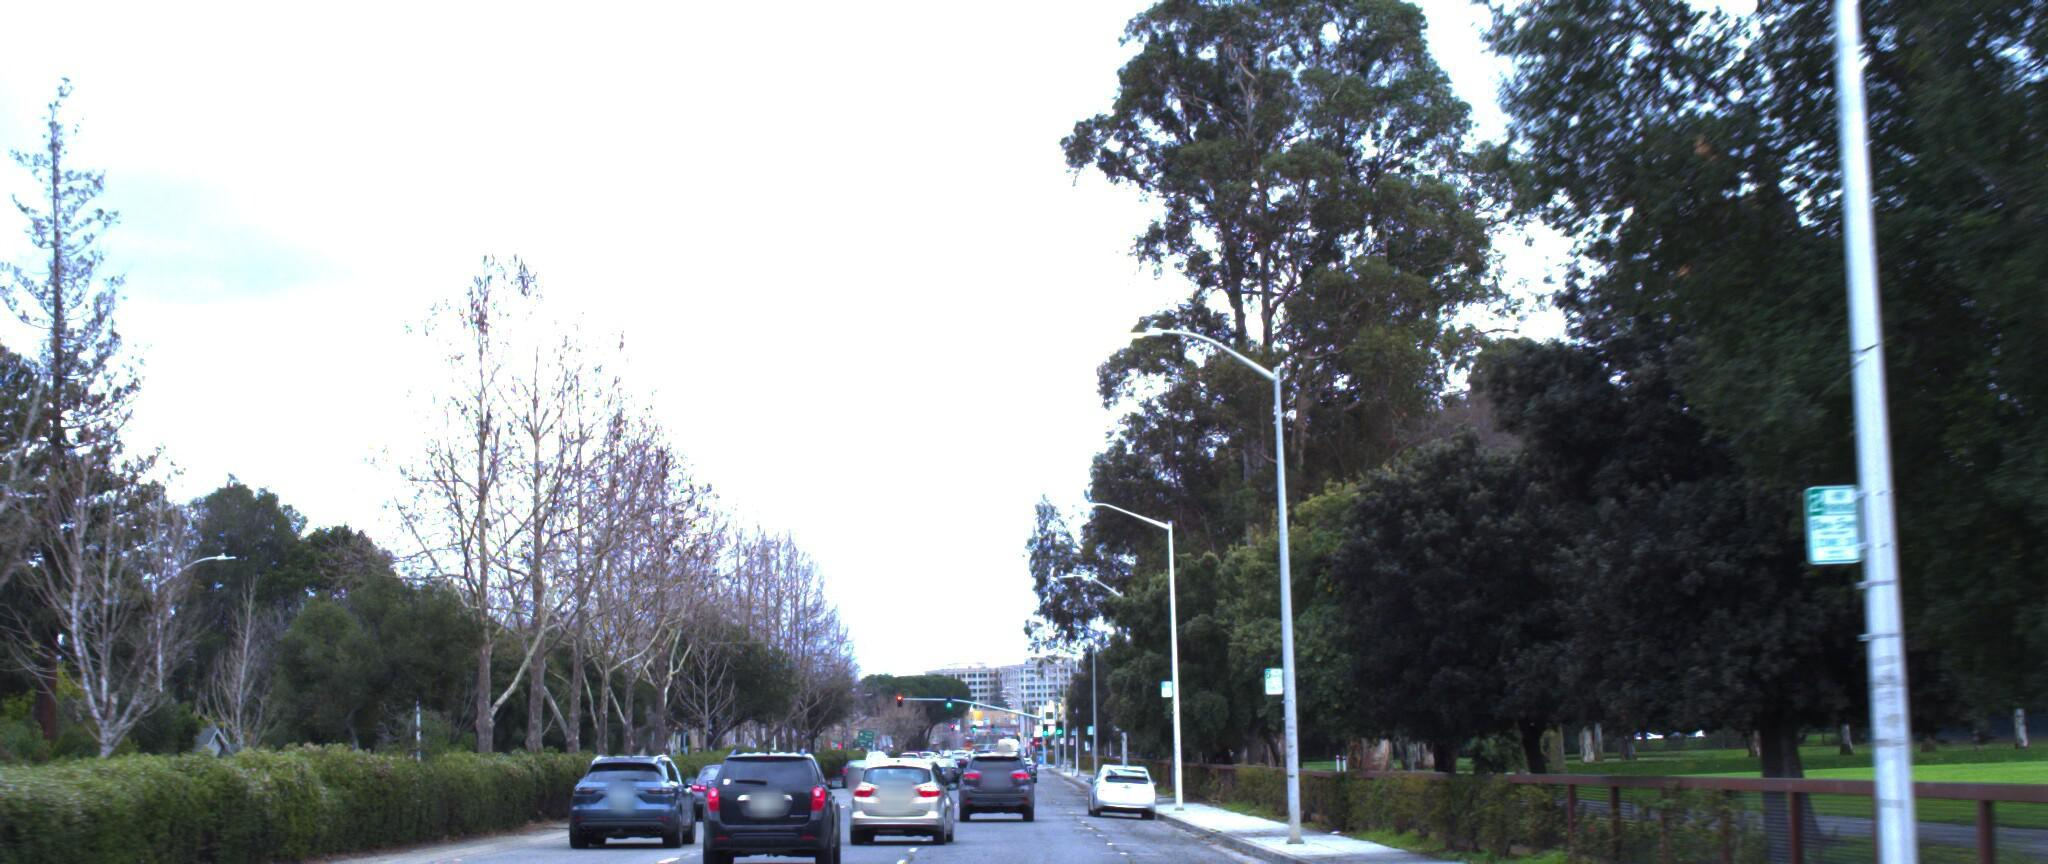car: (703, 747, 844, 864), (566, 754, 697, 857), (842, 762, 956, 854), (955, 754, 1033, 830), (1091, 766, 1156, 822)
